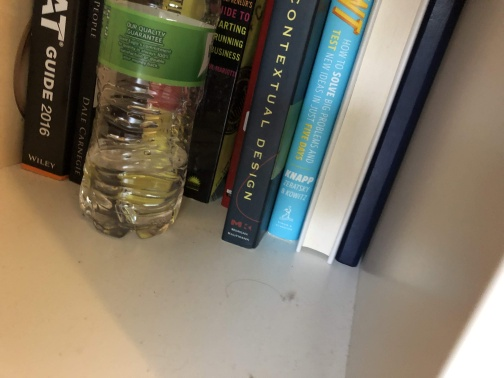bottle: (76, 1, 221, 242)
